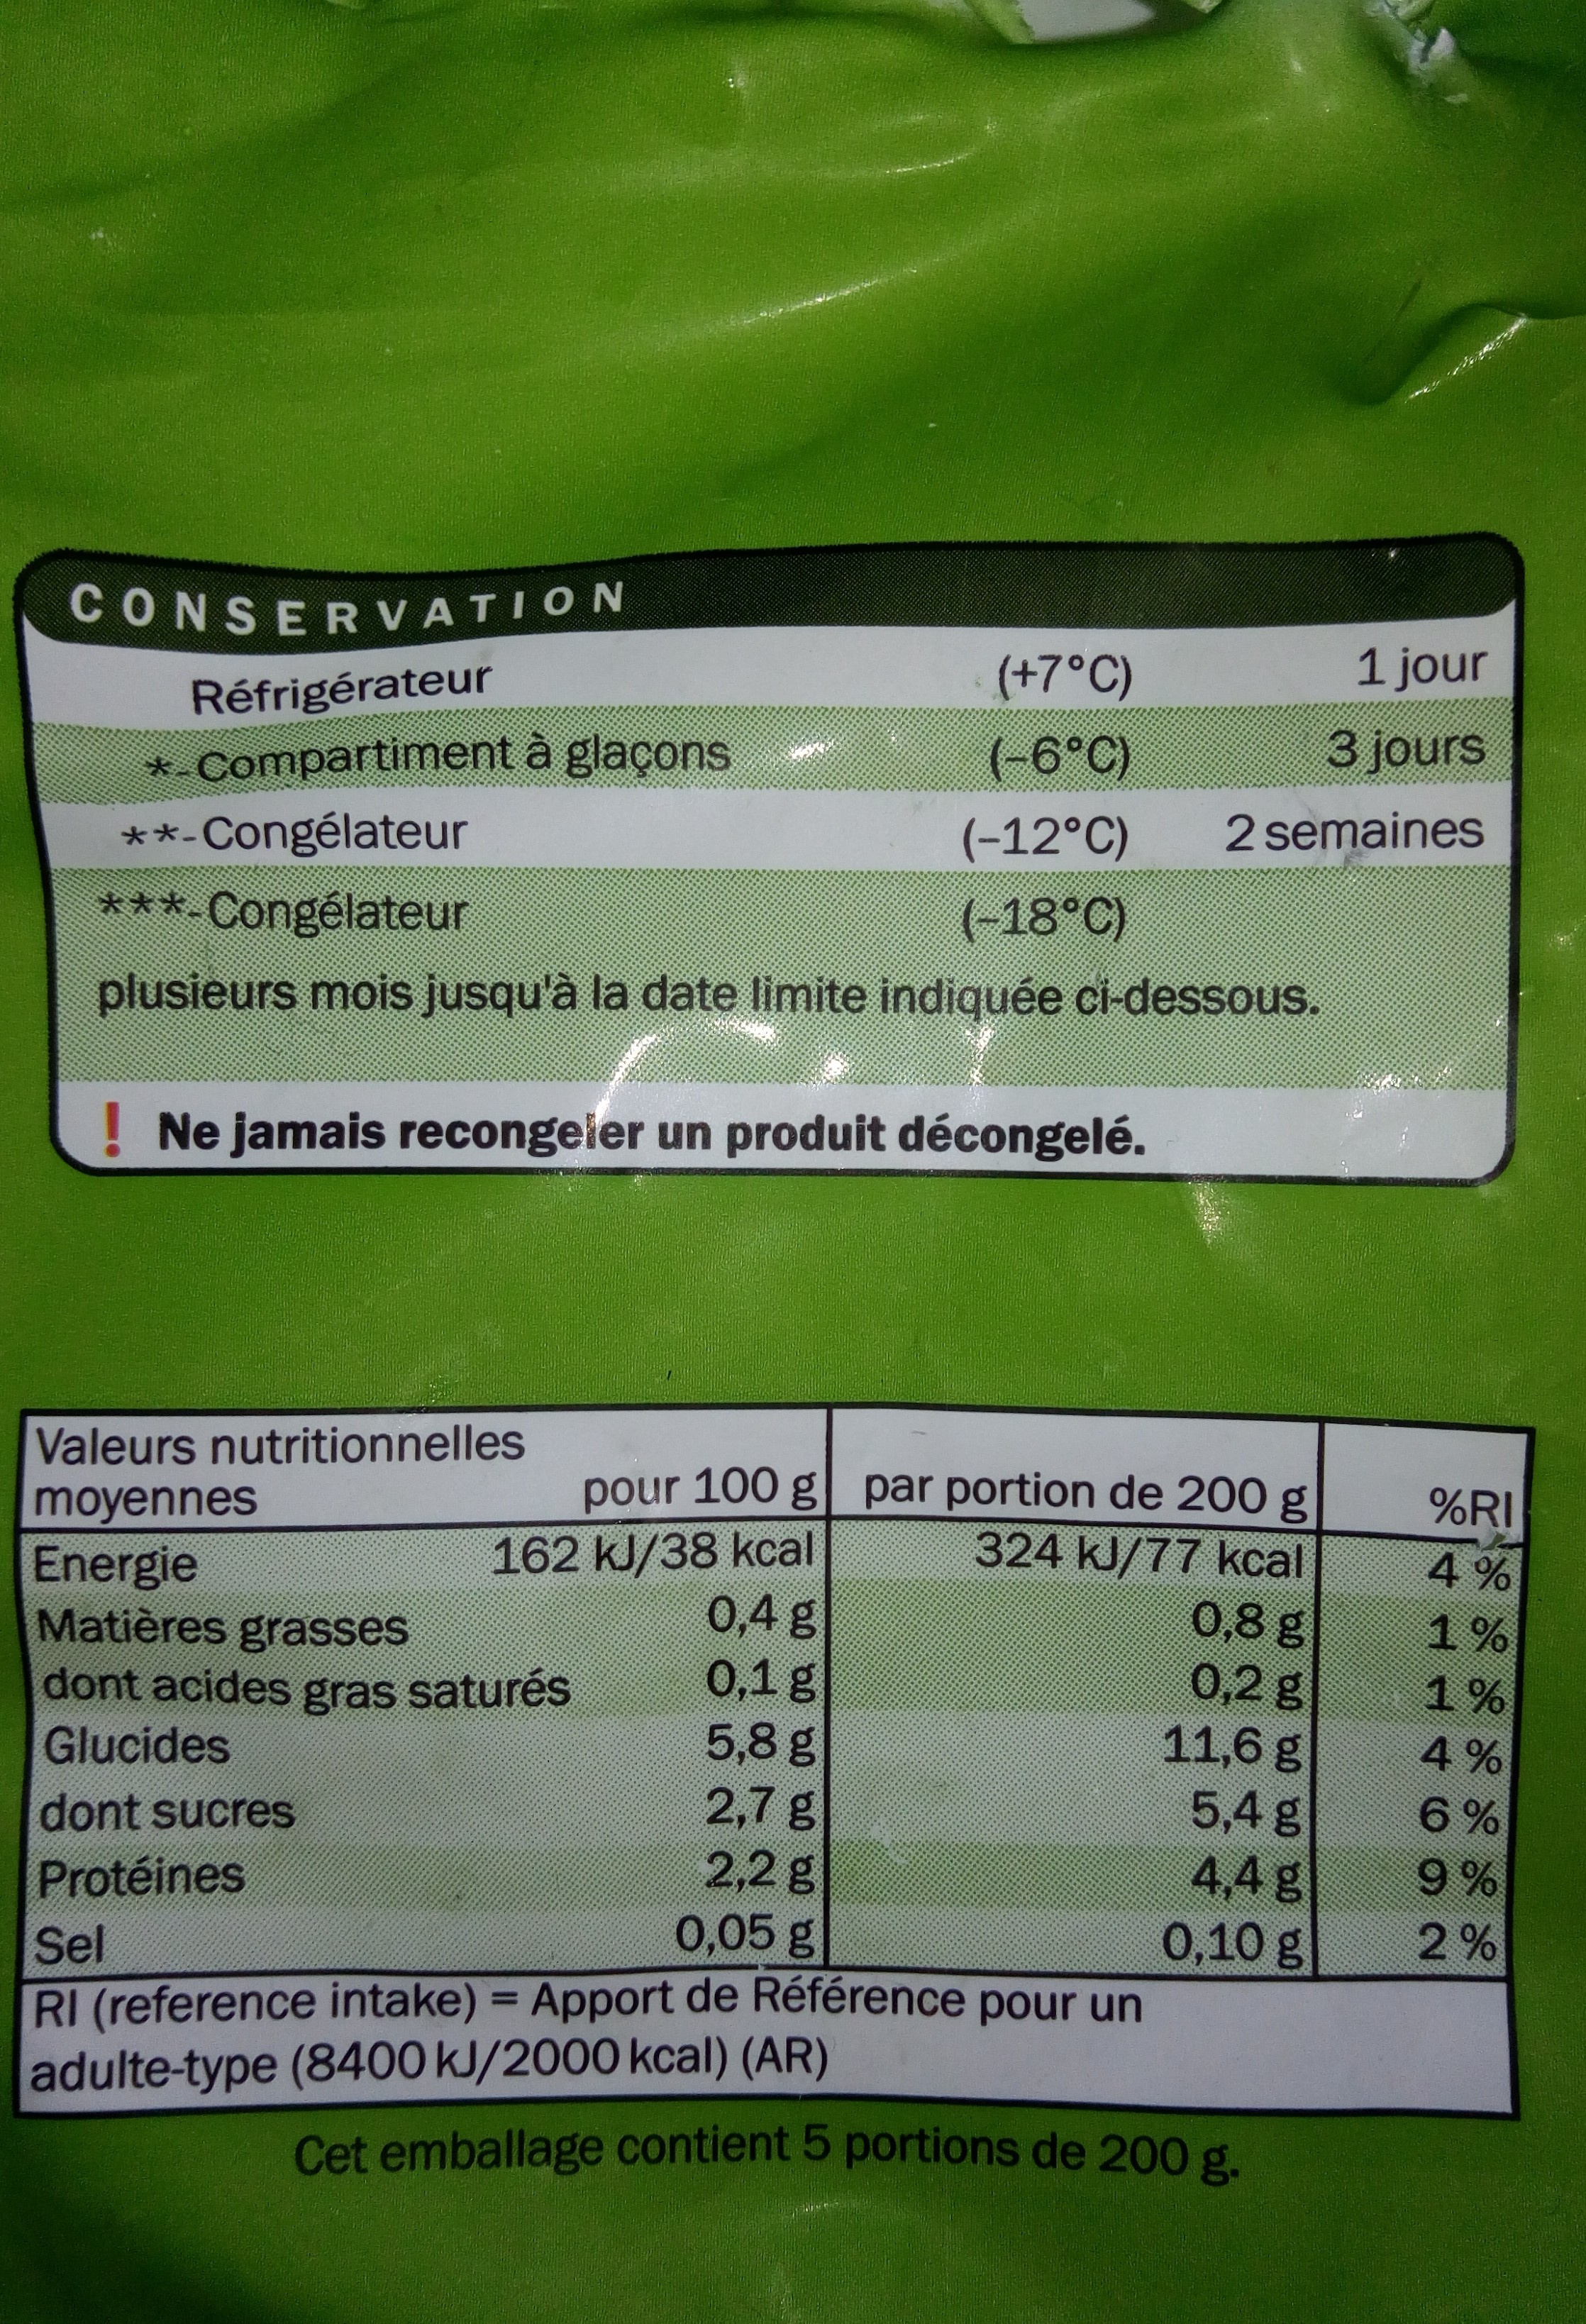column: (25, 1415, 823, 1971), (837, 1411, 1319, 1978), (1337, 1418, 1524, 1981)
table: (25, 1418, 1517, 1987)
